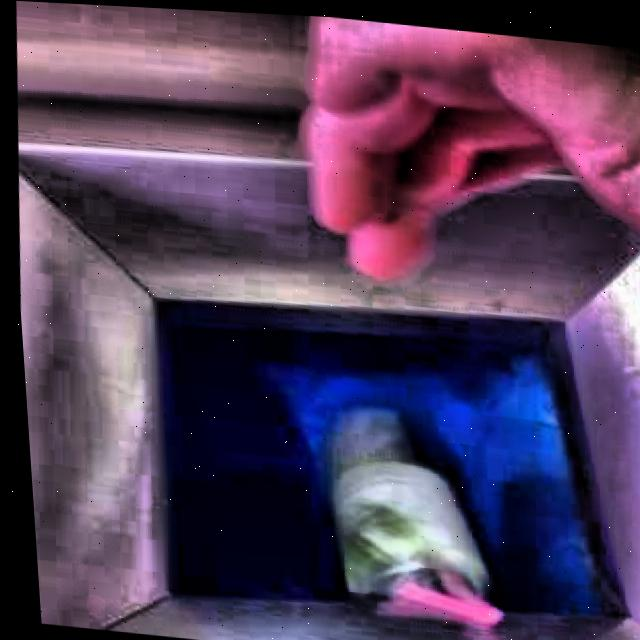metal: (321, 406, 492, 620)
